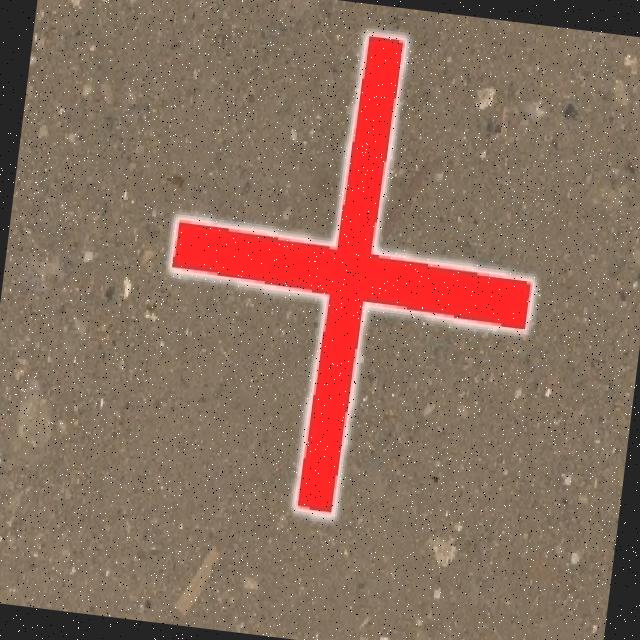x_marker: (143, 14, 559, 534)
